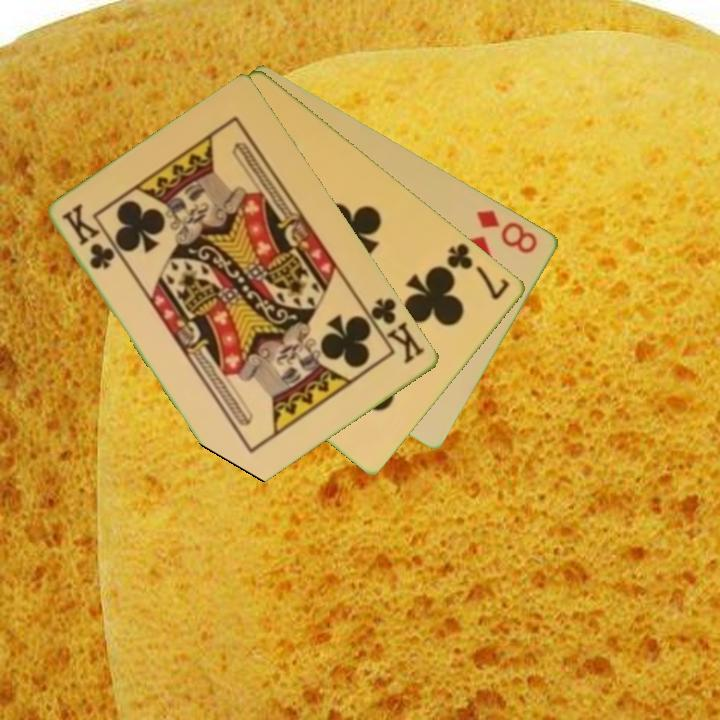7c: (444, 239, 513, 303)
8d: (473, 206, 541, 257)
Kc: (360, 294, 429, 367), (58, 201, 119, 273)
